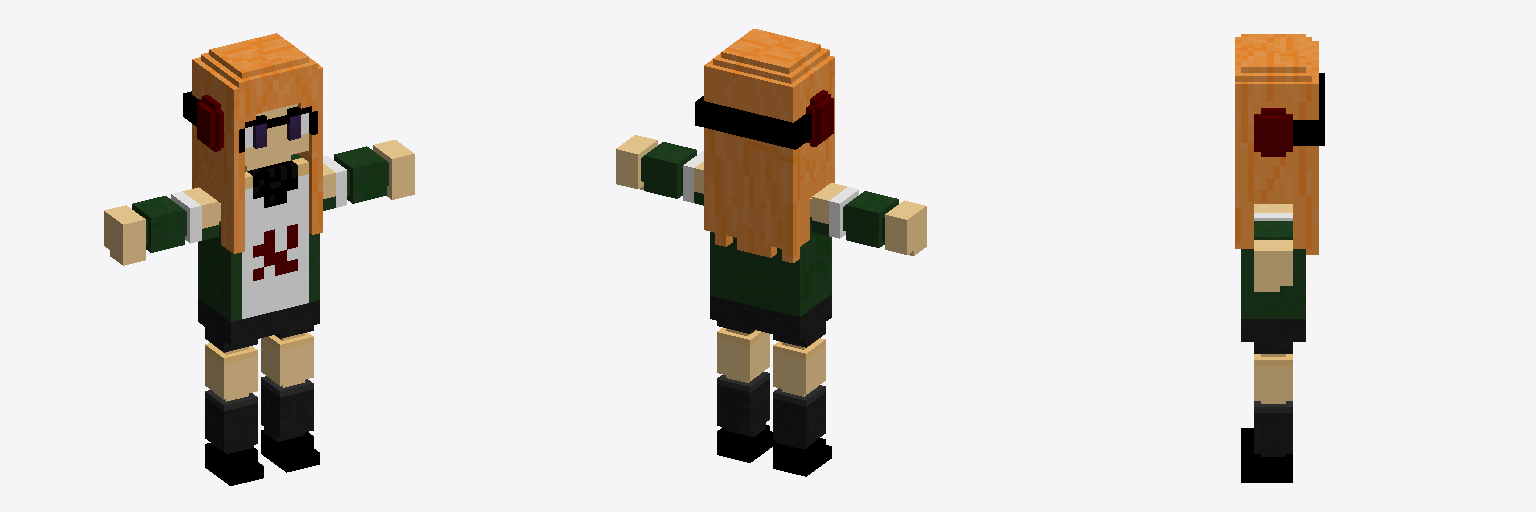
The picture shows the model from 3 angles: view 1: azimuth 30°, elevation 25°; view 2: azimuth 150°, elevation 25°; view 3: azimuth 270°, elevation 25°; orthographic projection.
Parts seen in each view (by area): view 1: object 1; view 2: object 1; view 3: object 1.
Boxes of the visible parts, box(x1,y1,x2,y2) form: object 1: box(104, 33, 414, 485); object 1: box(616, 29, 926, 476); object 1: box(1235, 34, 1324, 482).
Bounding box in the file's own units: 5.2 × 7 × 1.4.
Materials: 1 (1 with a texture image).